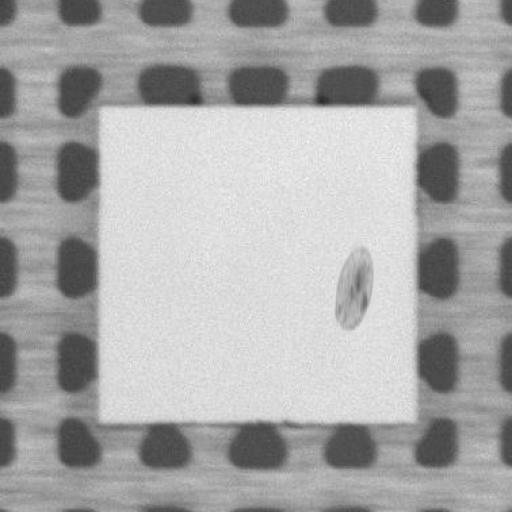DIE_INK: (332, 243, 374, 335)
